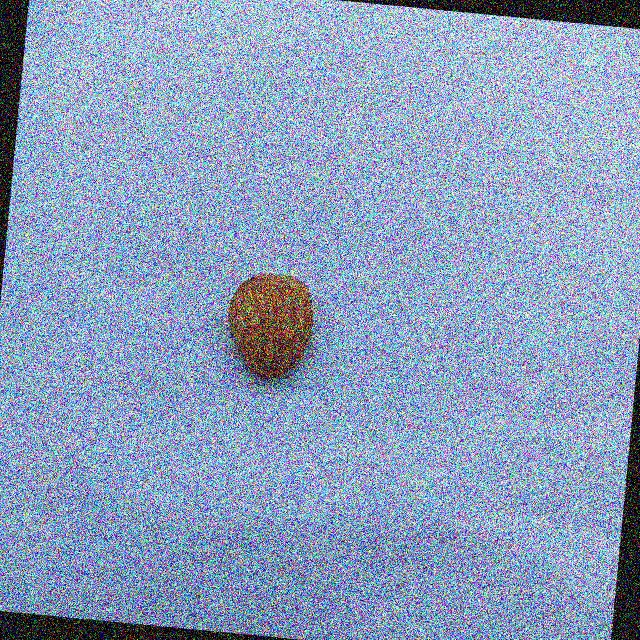grade1: (215, 263, 328, 393)
